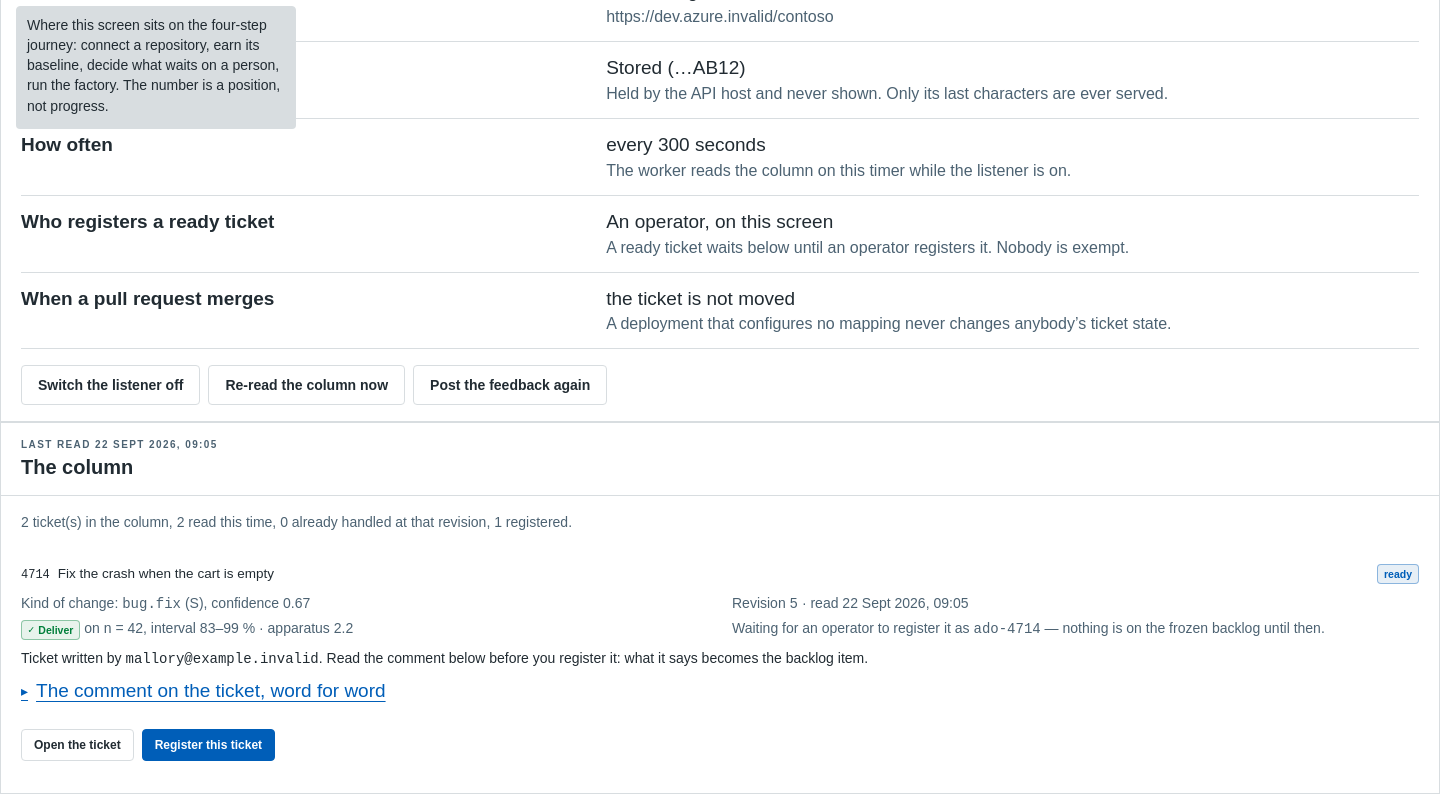
IntakePage — an operator registers a ready ticket (ADR-0022) › a registration whose ticket could not be told says so, not that the ticket was told
The width and height of the screenshot is (1440, 794).
(page scrolled)
Click the button "Register this ticket" at (208, 745), box [142,729,275,761]
(page scrolled)
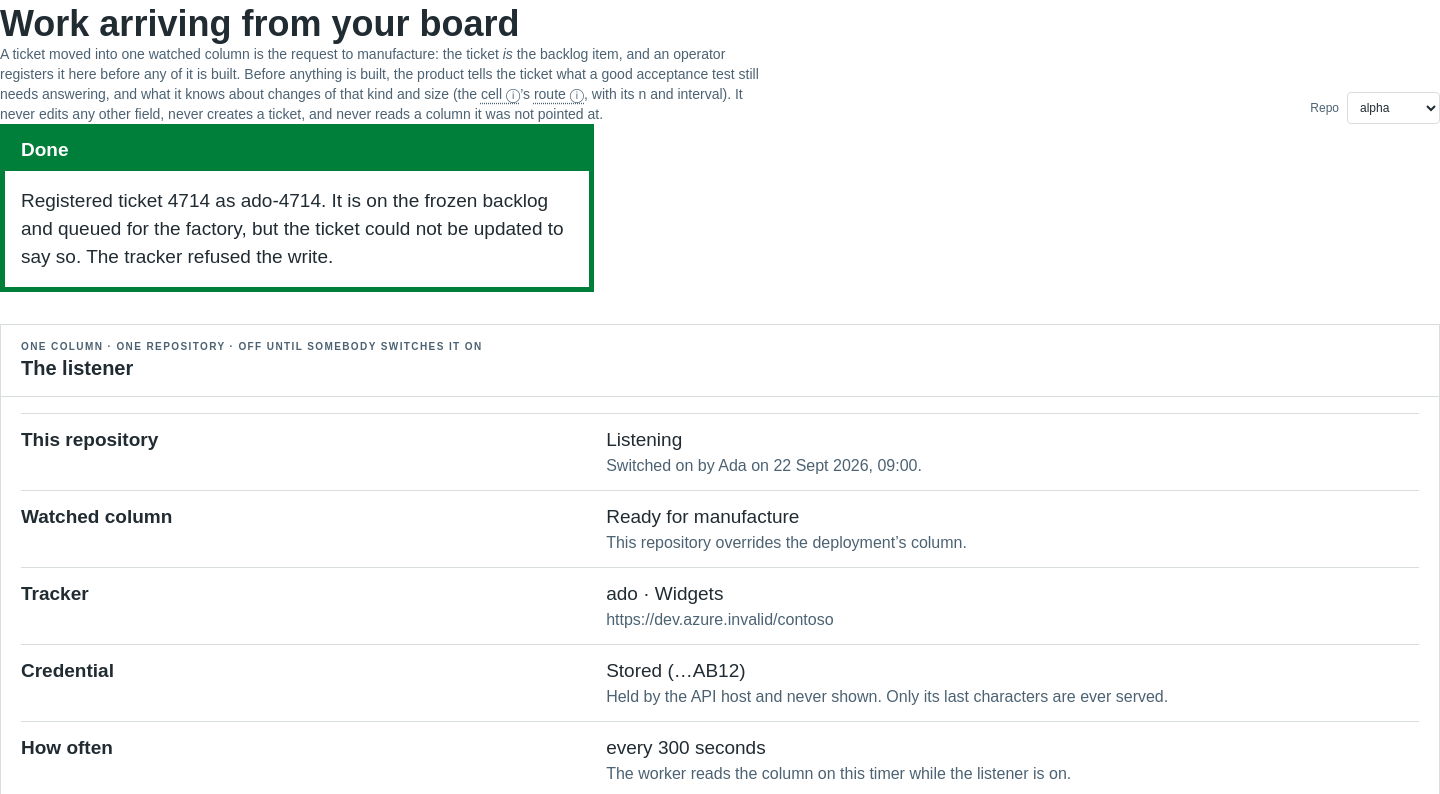
Expected: the message with test id "intake-success" shows "Registered ticket 4714 as ado-4714", [21,190,564,267]
Expected: the message with test id "intake-success" shows "could not be updated", [21,190,564,267]
Expected: the message with test id "intake-success" shows "The tracker refused the write.", [21,190,564,267]
